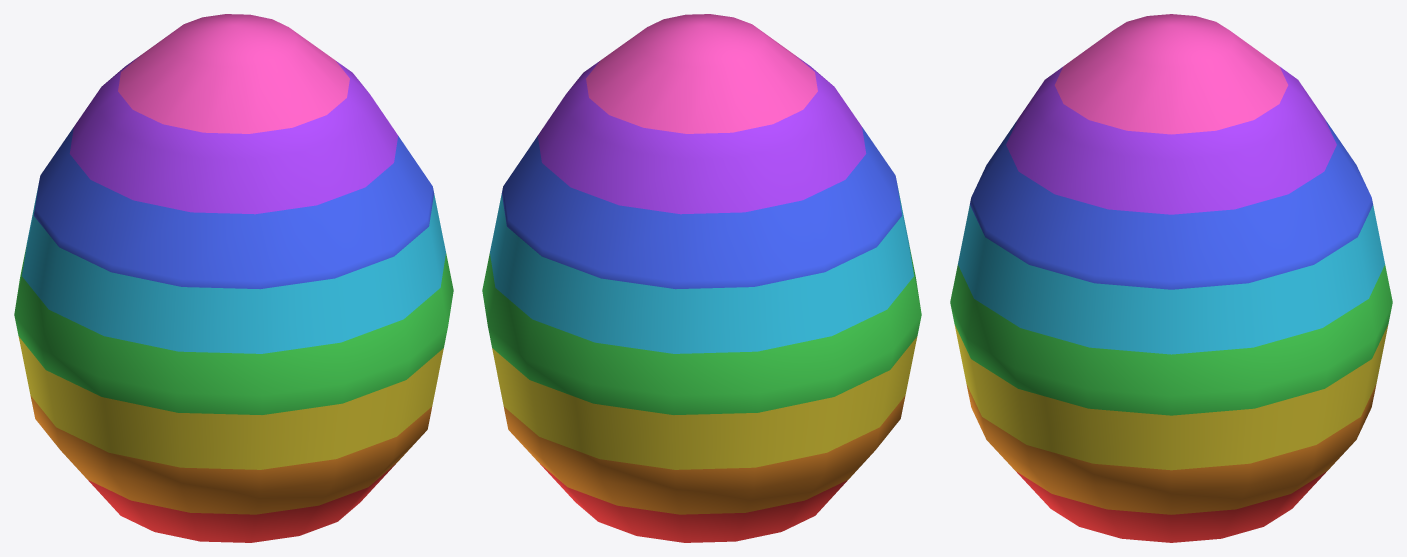
The model's file is RainbowEgg.fbx.
3 views of the same model, side by side, from view 1: azimuth 30°, elevation 25°; view 2: azimuth 150°, elevation 25°; view 3: azimuth 270°, elevation 25° (orthographic).
Visible parts, largest first — view 1: RainbowEgg; view 2: RainbowEgg; view 3: RainbowEgg.
Boxes of the visible parts, box(x1,y1,x2,y2) form: RainbowEgg: box(14, 14, 453, 542); RainbowEgg: box(482, 14, 921, 542); RainbowEgg: box(950, 14, 1392, 542).
Bounding box in the file's own units: 2.1 × 2.5 × 2.1.
Materials: 1 (1 with a texture image).
